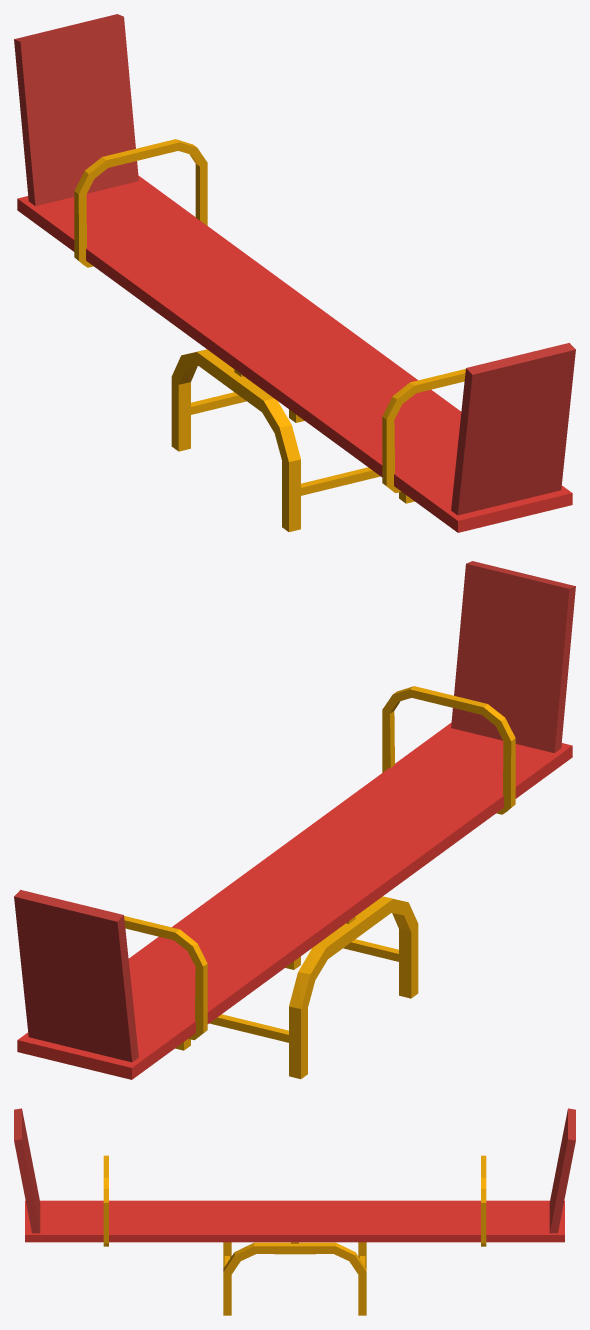
The model's file is Playground_04.fbx.
3 views of the same model, one above another, from view 1: azimuth 30°, elevation 25°; view 2: azimuth 150°, elevation 25°; view 3: azimuth 270°, elevation 25° (orthographic). The views are drawn at different scales.
Parts seen in each view (by area): view 1: Playground_04; view 2: Playground_04; view 3: Playground_04.
Boxes of the visible parts, bbox=[...] form: Playground_04: bbox=[14, 14, 575, 532]; Playground_04: bbox=[14, 561, 575, 1079]; Playground_04: bbox=[14, 1108, 575, 1315].
Bounding box in the file's own units: 33.9 × 70.44 × 208.
